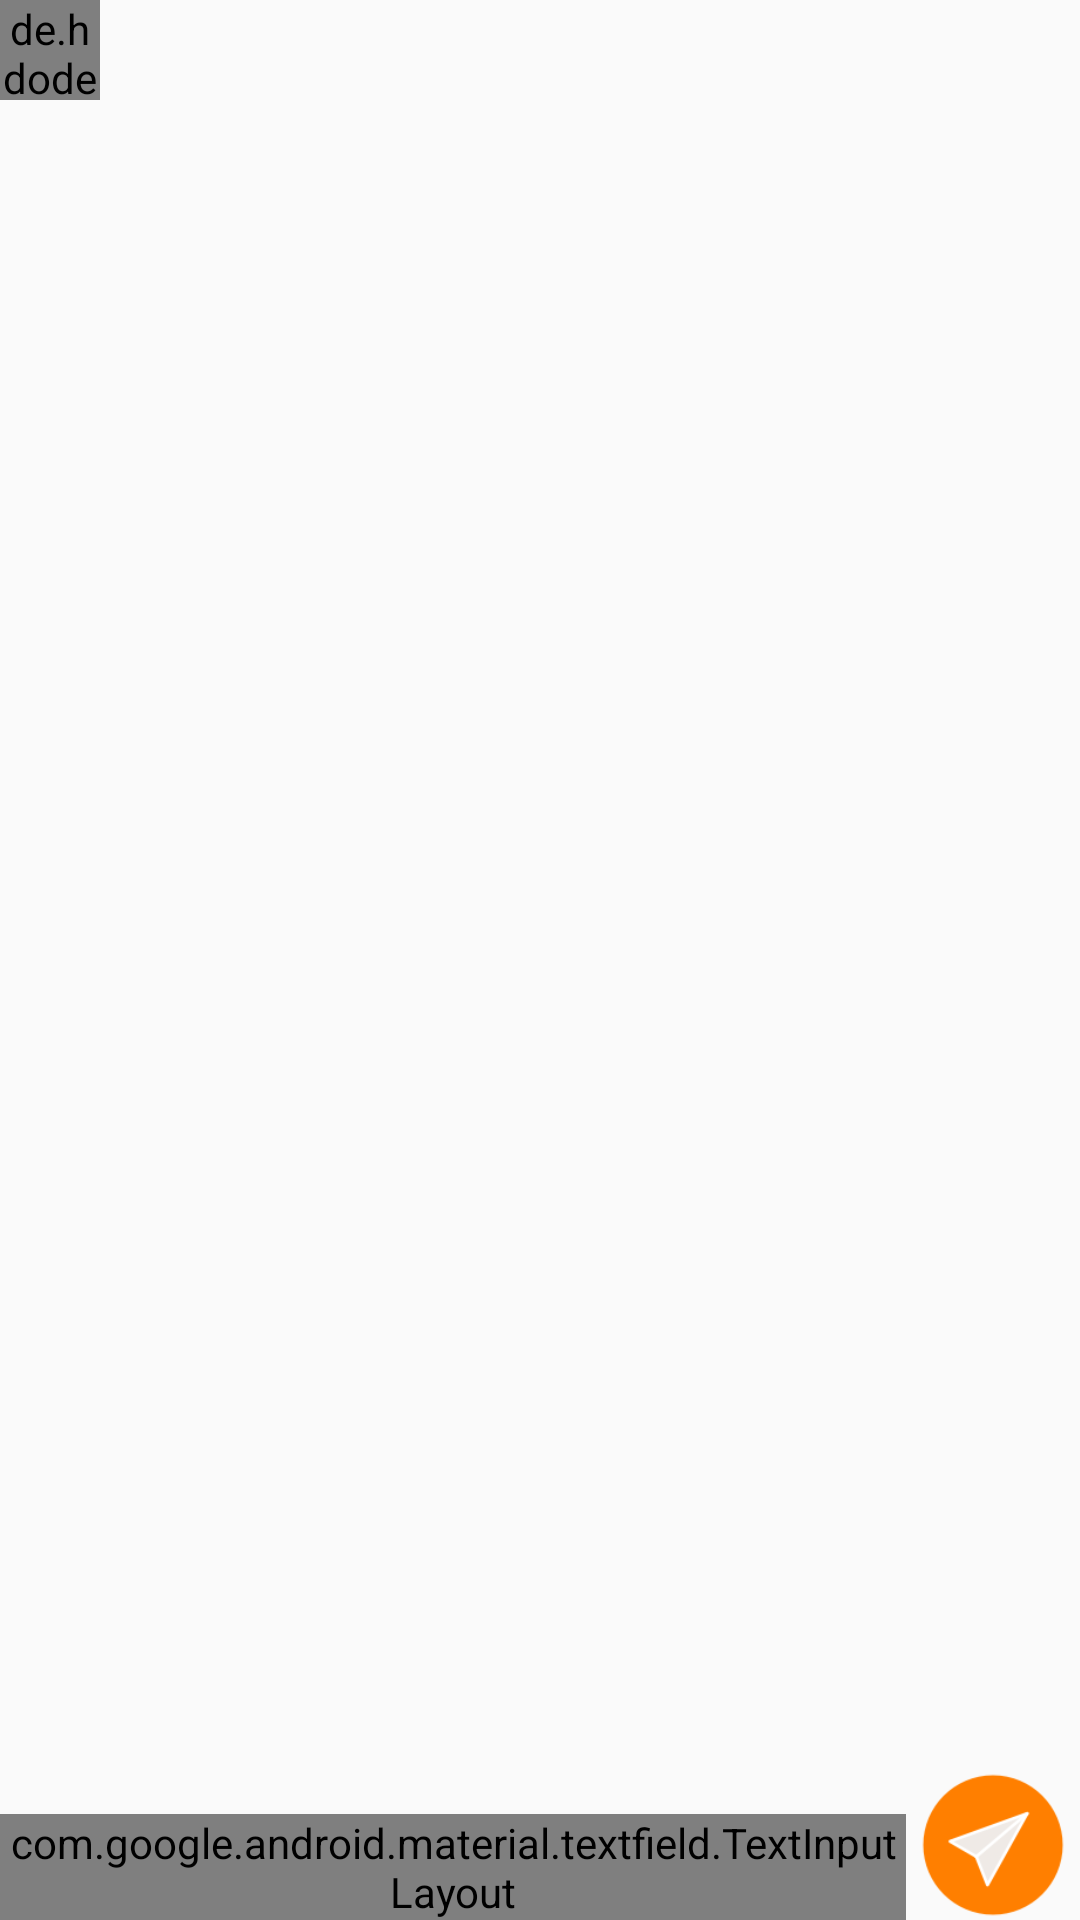

Screen size 1080w x 1920h. Icon name, then its box in pixels as region(x1, y1, x2, y2):
send: region(922, 1774, 1064, 1916)
